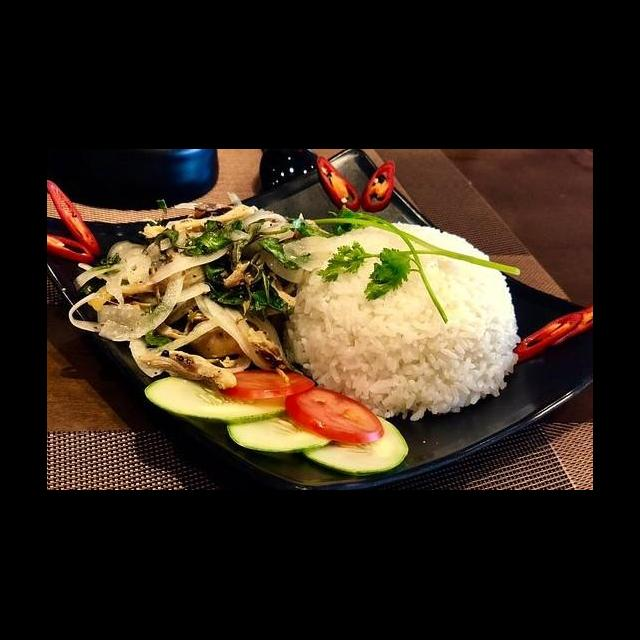com: (273, 220, 523, 424)
com ga: (88, 190, 523, 490)
rau ram: (198, 260, 293, 318), (154, 216, 247, 264)
thit ga: (155, 308, 289, 372), (136, 348, 241, 392)
